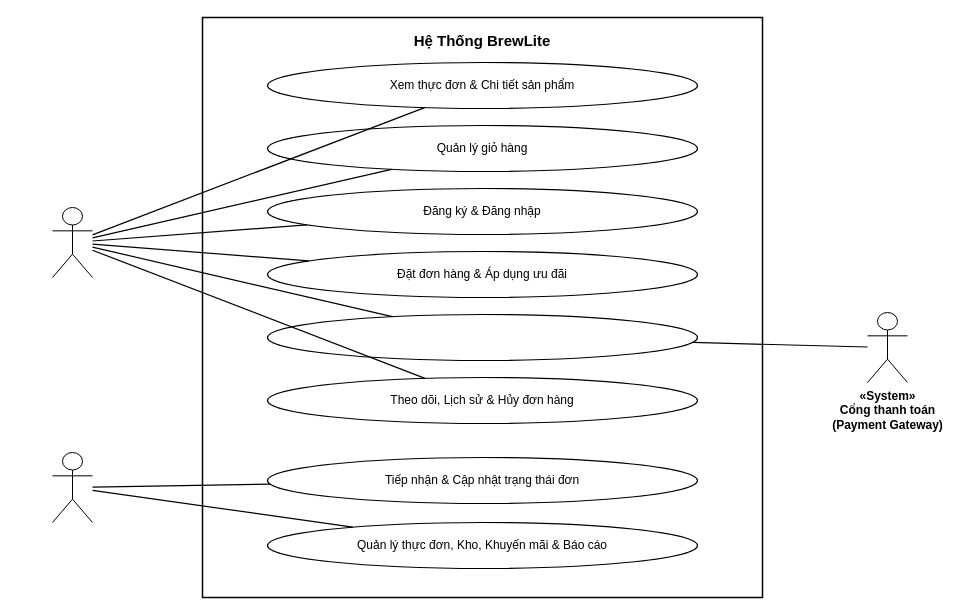
This 960x616 diagram has some shape labels left out. Each missing label, with the centre of its shape:
Khách hàng (Customer): the point at 72,242
Nhân viên / Quản lý (Staff / Manager): the point at 72,487
Thanh toán không tiền mặt: the point at 482,337
